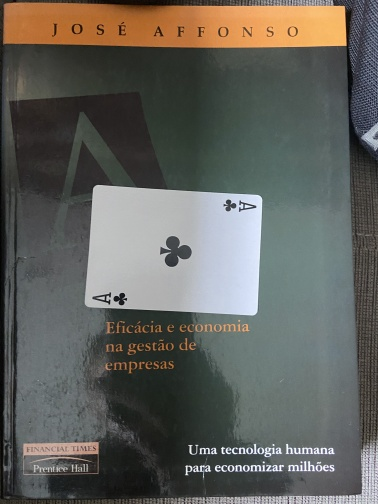ace: (83, 184, 264, 317)
